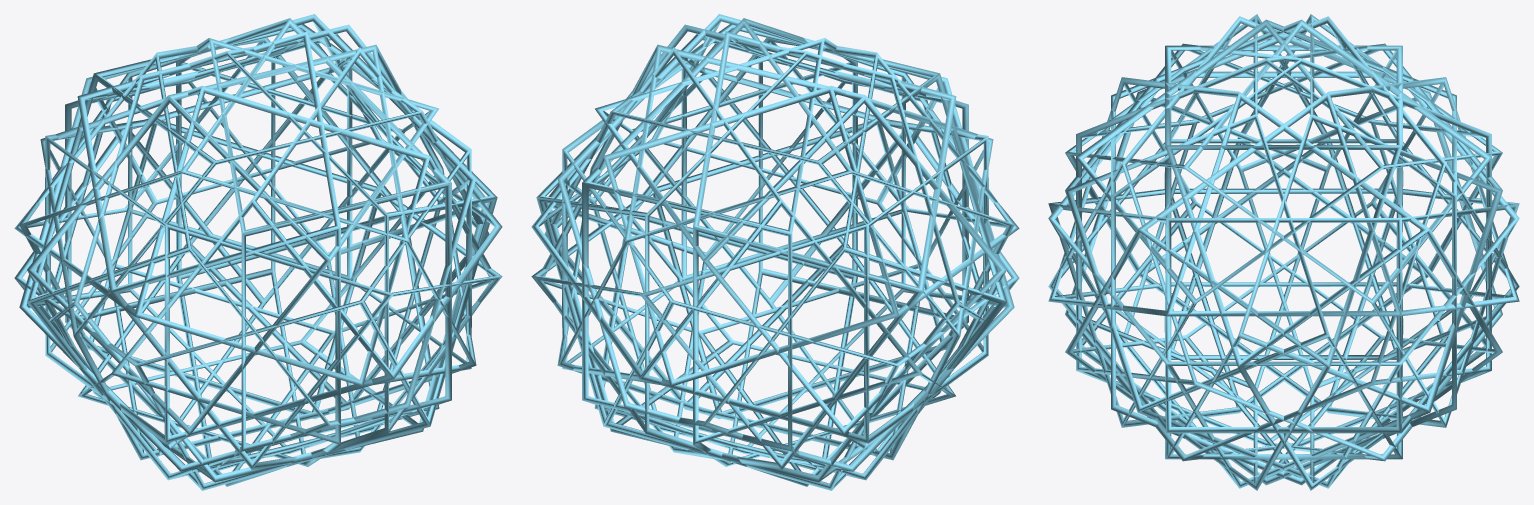
File: GreatTruncatedIcosidodecahedron2.glb
3 views of the same model, side by side, from view 1: azimuth 30°, elevation 25°; view 2: azimuth 150°, elevation 25°; view 3: azimuth 270°, elevation 25° (orthographic). The views are drawn at different scales.
Visible parts, largest first — view 1: GreatTruncatedIcosidodecahedron; view 2: GreatTruncatedIcosidodecahedron; view 3: GreatTruncatedIcosidodecahedron.
Part boxes in pixels (<box>): GreatTruncatedIcosidodecahedron: <box>14,14,502,490</box>; GreatTruncatedIcosidodecahedron: <box>531,14,1019,490</box>; GreatTruncatedIcosidodecahedron: <box>1048,14,1519,490</box>.
Size of the model in its own units: 2.03 by 2.03 by 2.03.
